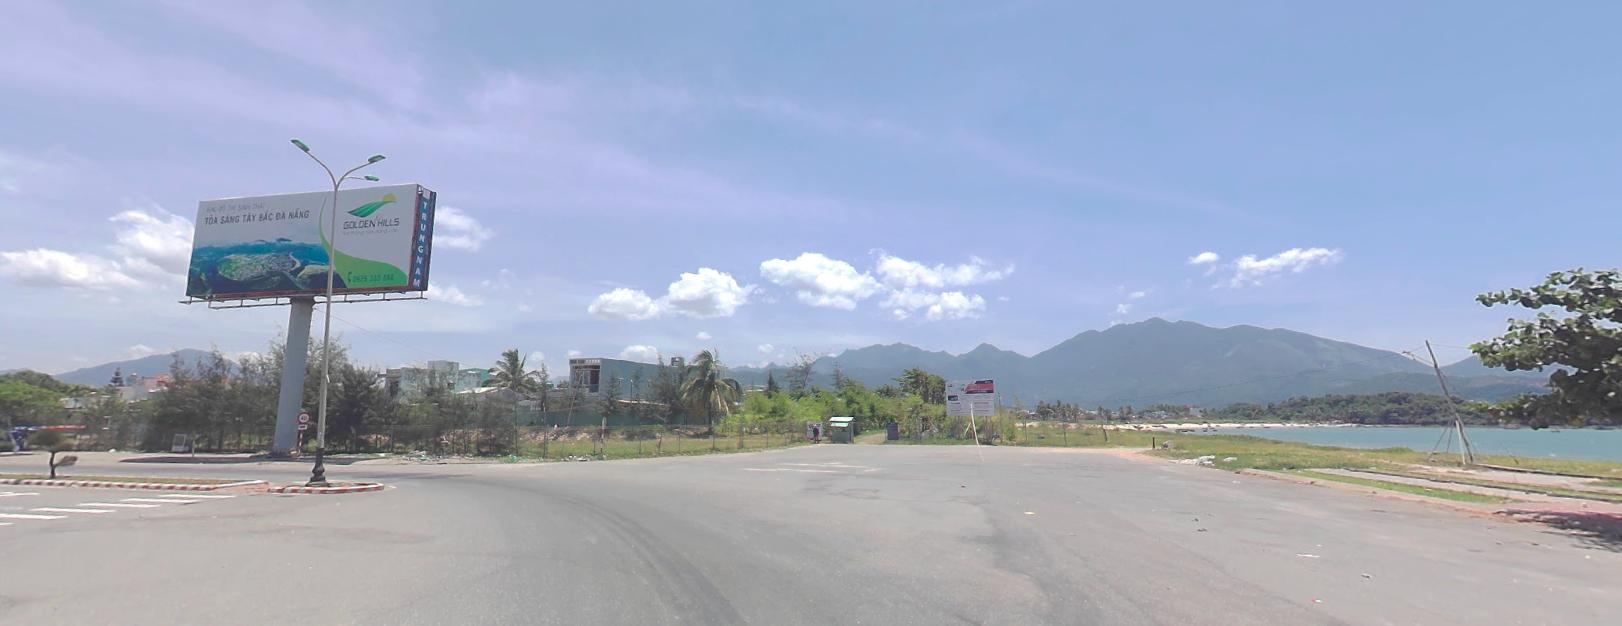Gioi han toc do: (297, 410, 309, 421)
